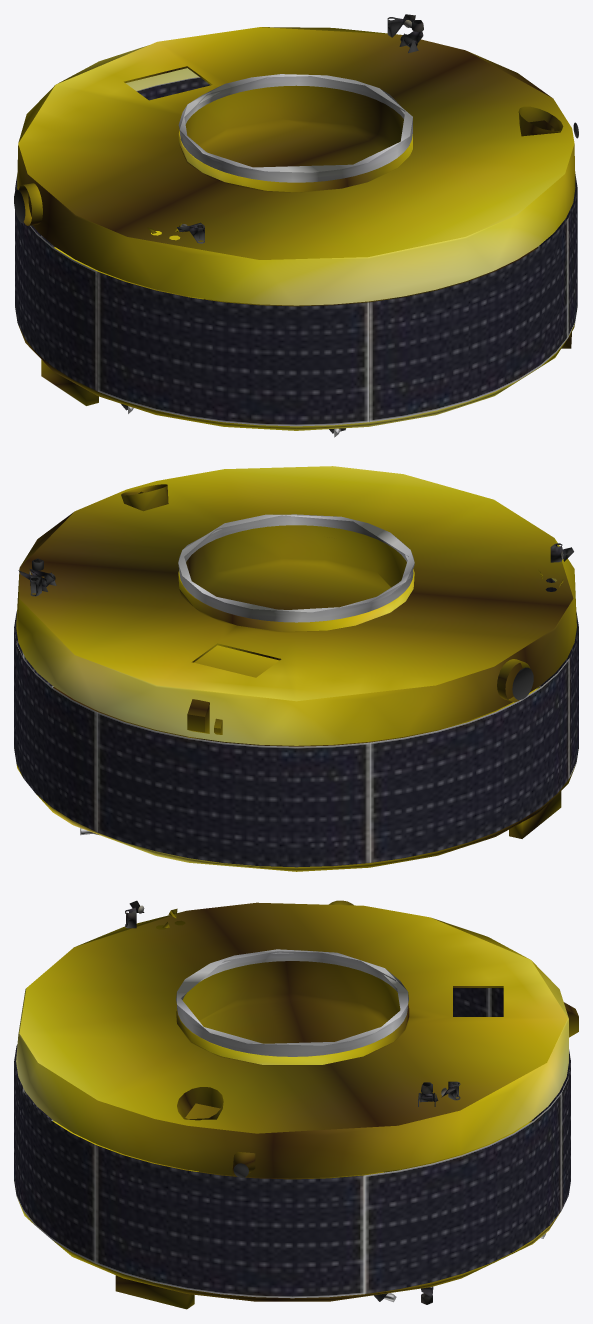
Rendered from cluster-ii-coarse-far.glb.
3 views of the same model, one above another, from view 1: azimuth 30°, elevation 25°; view 2: azimuth 150°, elevation 25°; view 3: azimuth 270°, elevation 25° (orthographic).
Visible parts, largest first — view 1: far; view 2: far; view 3: far.
Part boxes in pixels (bbox=[...]): far: bbox=[14, 14, 578, 437]; far: bbox=[14, 466, 578, 871]; far: bbox=[14, 900, 578, 1309].
Bounding box in the file's own units: 2.9 × 1.3 × 2.82.
Materials: 1 (1 with a texture image).
